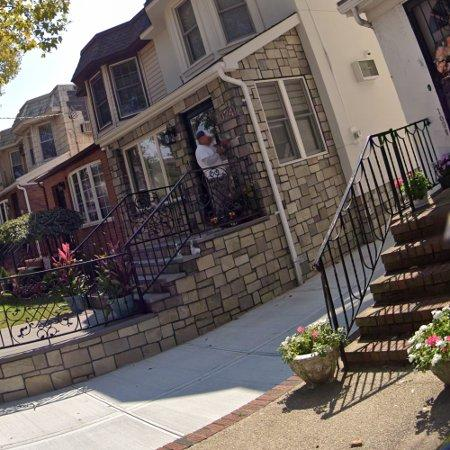stairs: (346, 204, 450, 367), (131, 240, 201, 314)
